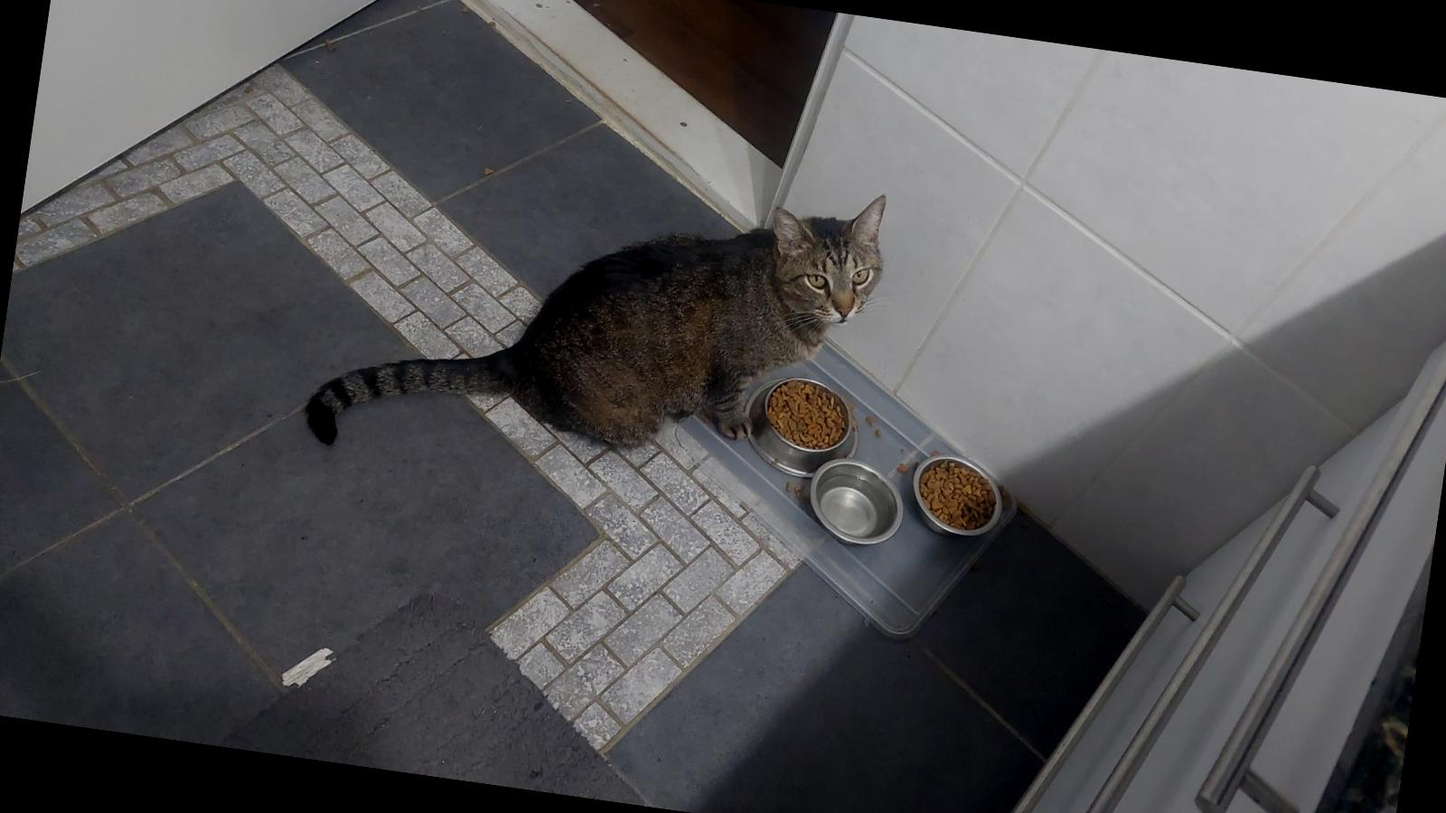macka: (298, 115, 894, 520)
